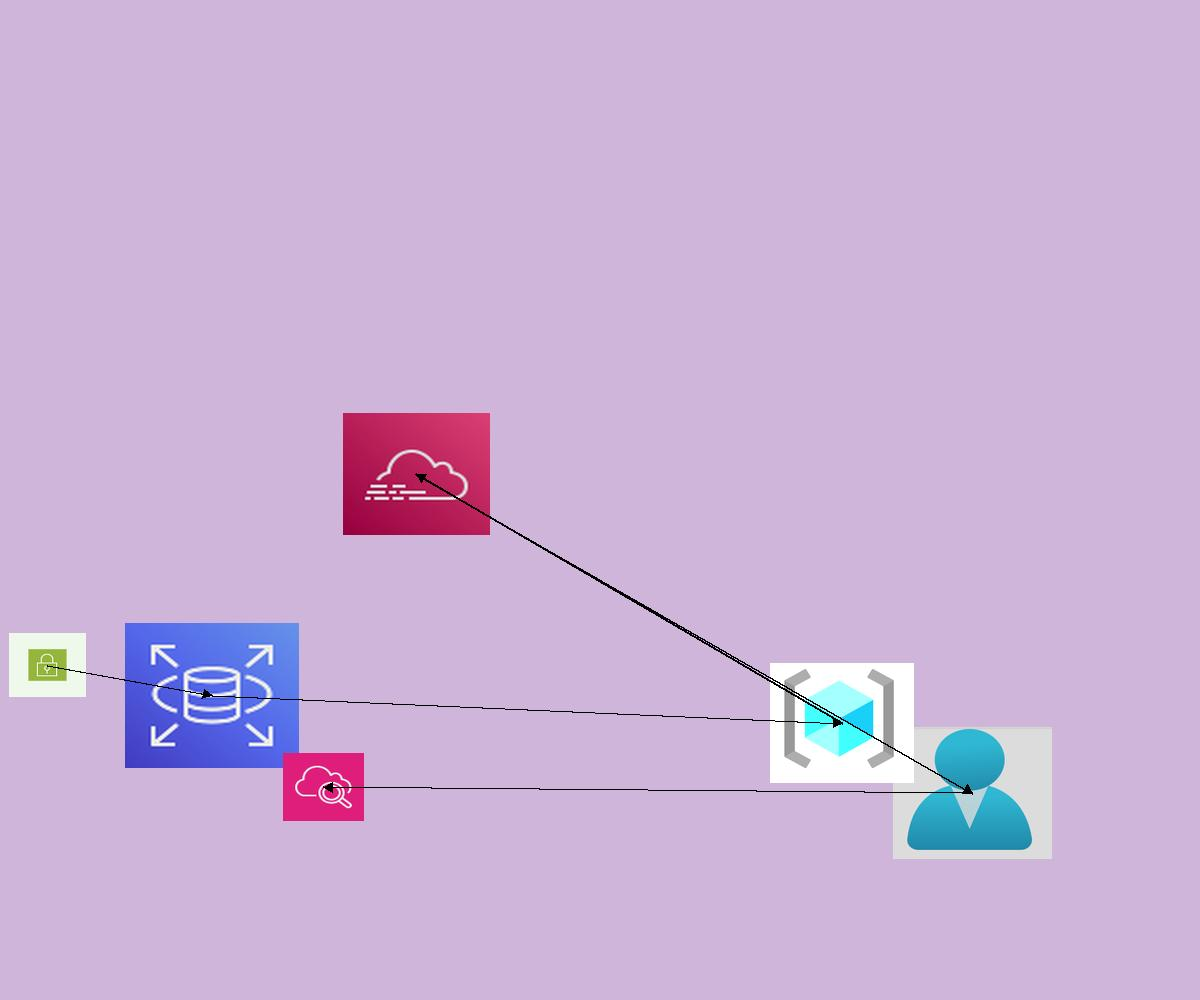AWS-CloudTrail: (343, 413, 490, 535)
AWS-CloudWatch: (283, 753, 364, 821)
AWS-Public-subnet: (9, 633, 86, 697)
AWS-RDS: (125, 623, 299, 768)
Azure_resource_group: (770, 663, 914, 783)
Azure_users: (893, 727, 1052, 859)
